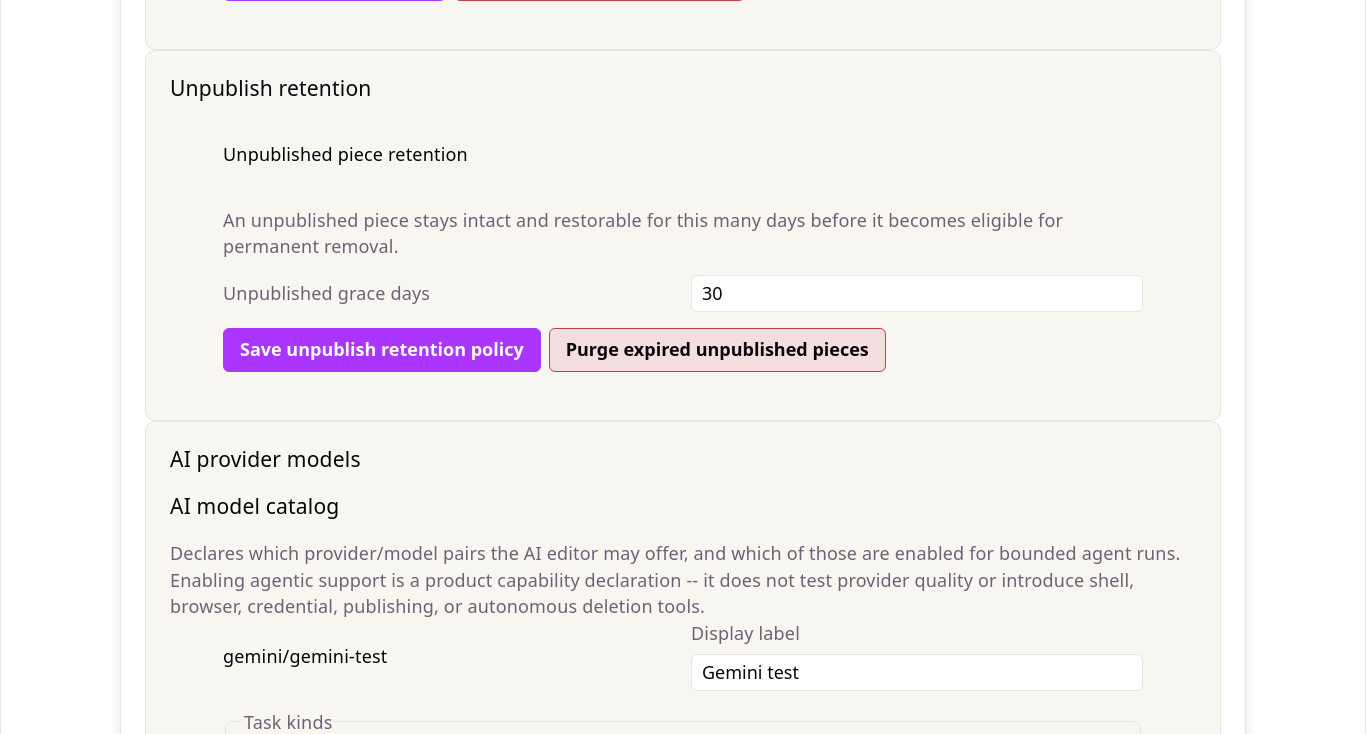
Test case: Unpublish retention settings (#944) › purges expired unpublished pieces after an explicit confirmation
This screenshot has width=1366, height=734.
(page scrolled)
Click the button "Purge expired unpublished pieces" at [717, 350], box [549,328,886,372]
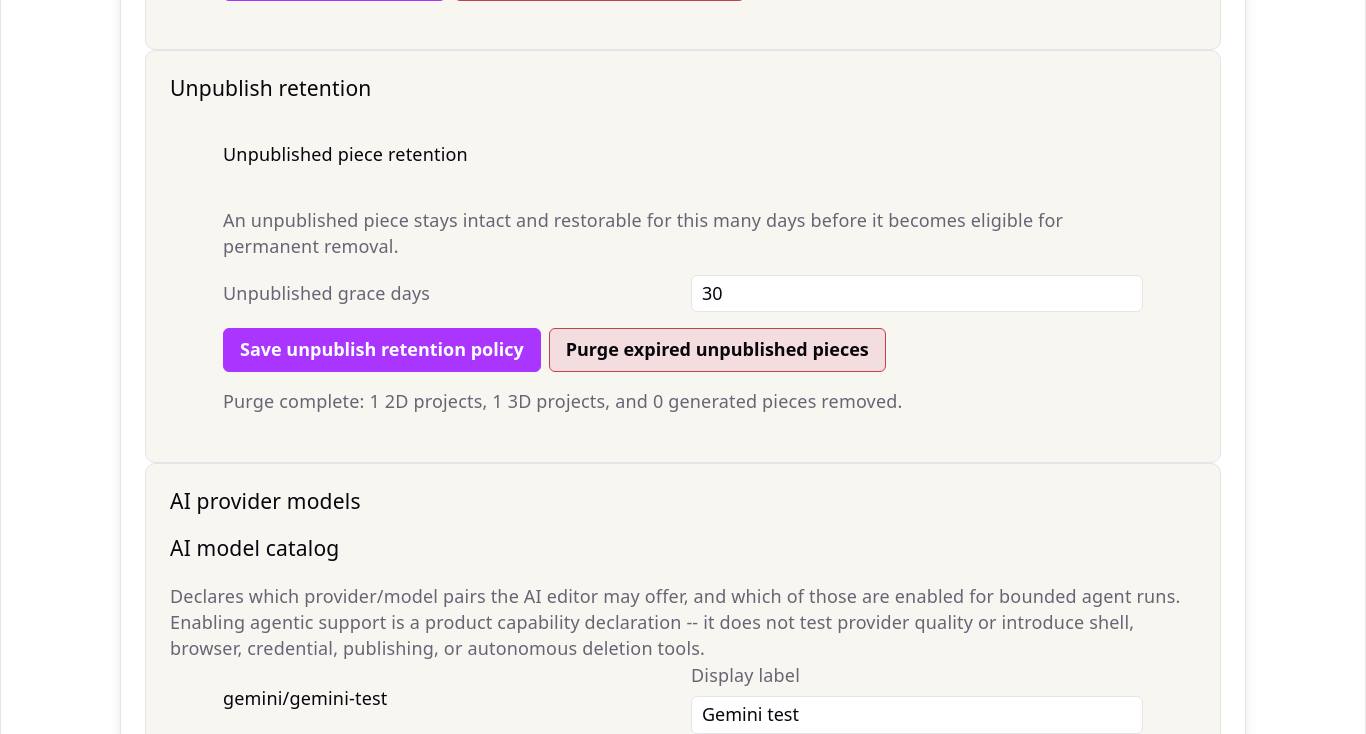
Check: the text "Purge complete: 1 2D projects, 1 3D projects, and 0 generated pieces removed." is shown, box [223,389,902,413]
